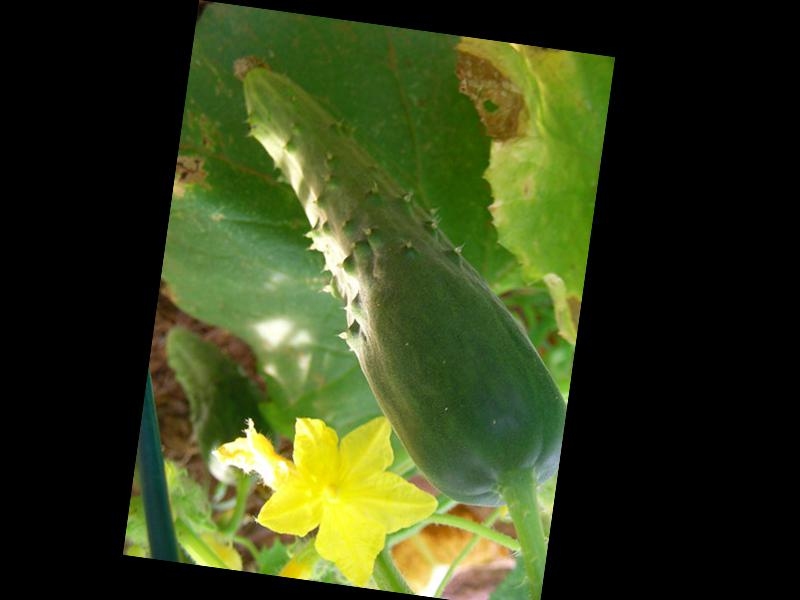Cucumber: (177, 53, 607, 515)
